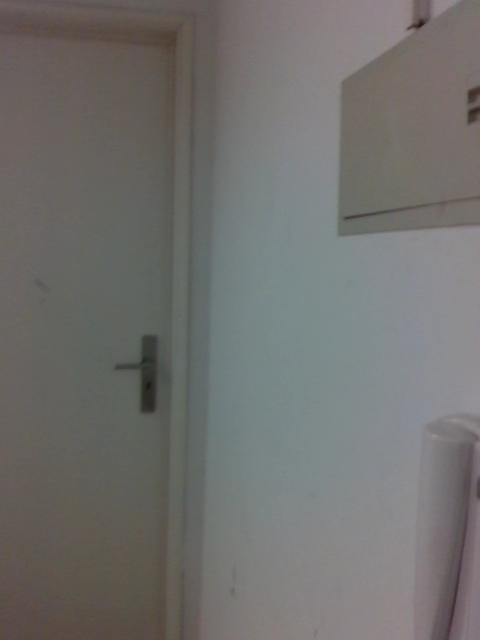door: (1, 36, 175, 638)
